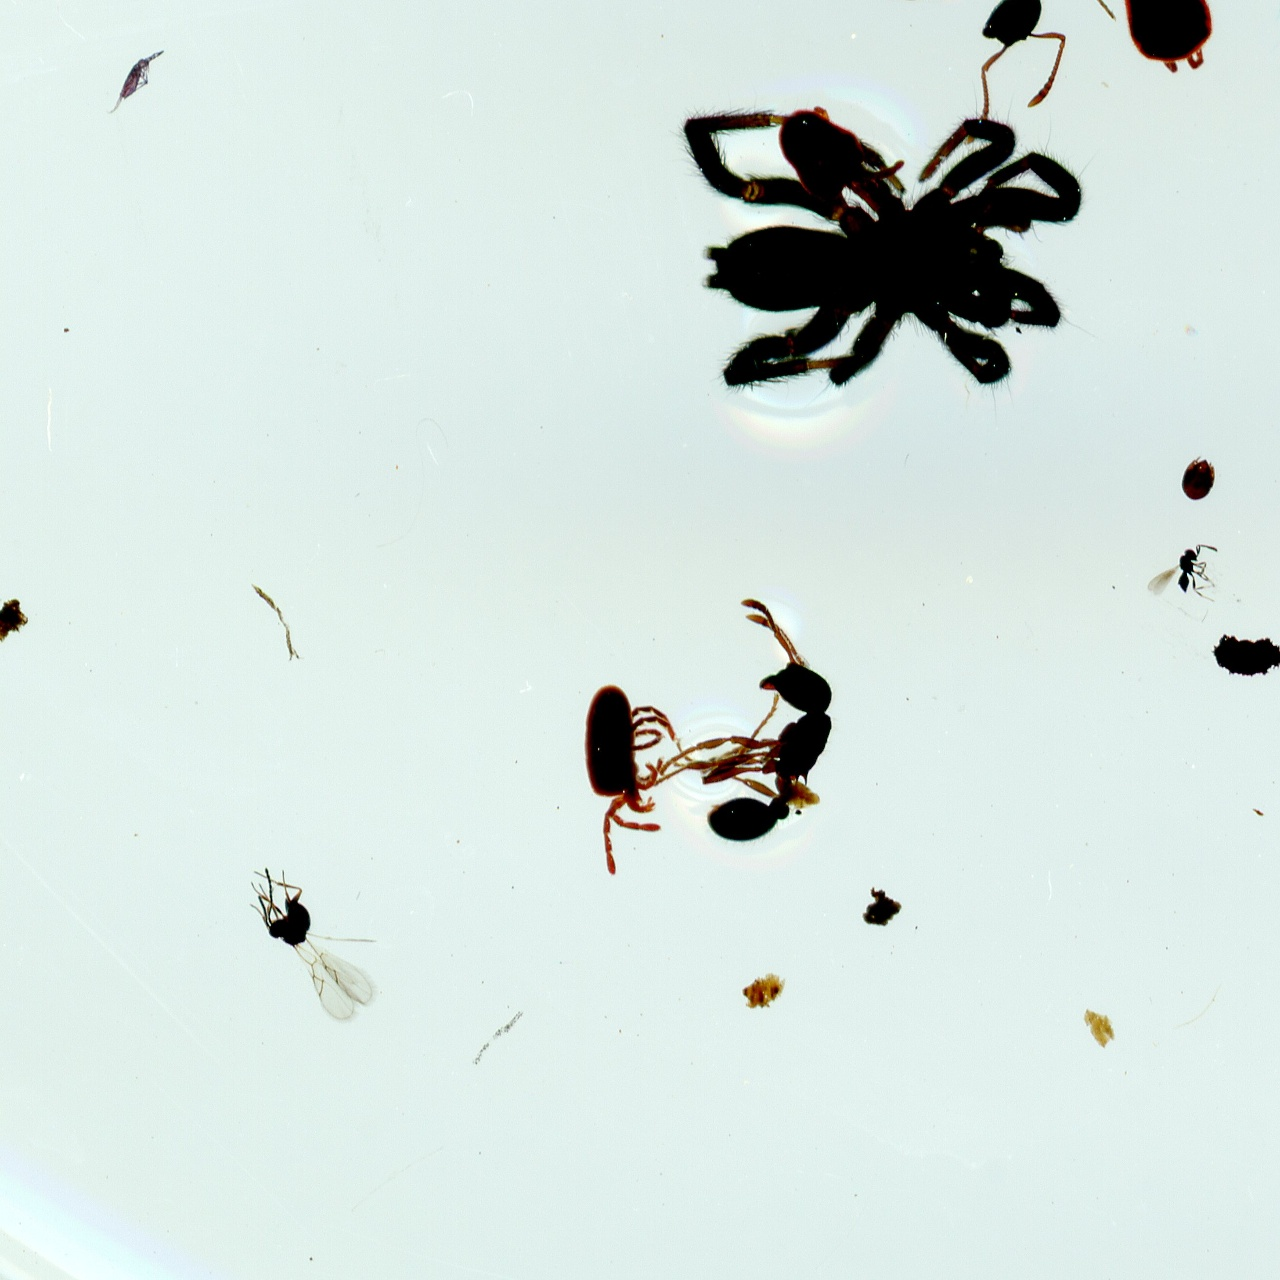arthropod: (661, 100, 1108, 423), (658, 579, 866, 873), (216, 826, 418, 1048), (860, 0, 1071, 125), (576, 680, 680, 880), (1108, 0, 1220, 80), (95, 30, 182, 134), (1141, 536, 1235, 607), (1178, 452, 1223, 503)
